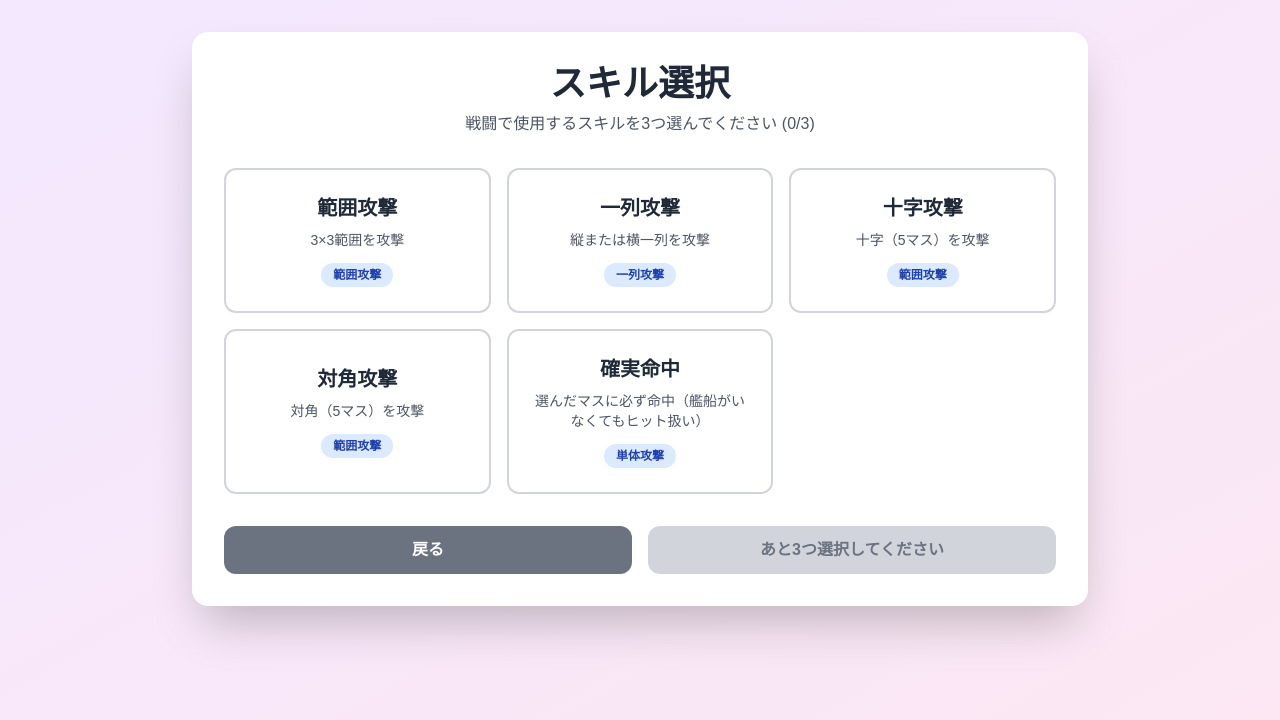
Test: SkillSelectPage › allows selecting up to 3 skills
// Select 3 skills
Click the button "範囲攻撃 3×3範囲を攻撃 範囲攻撃": (357, 240) top-left (224, 168), bottom-right (491, 313)
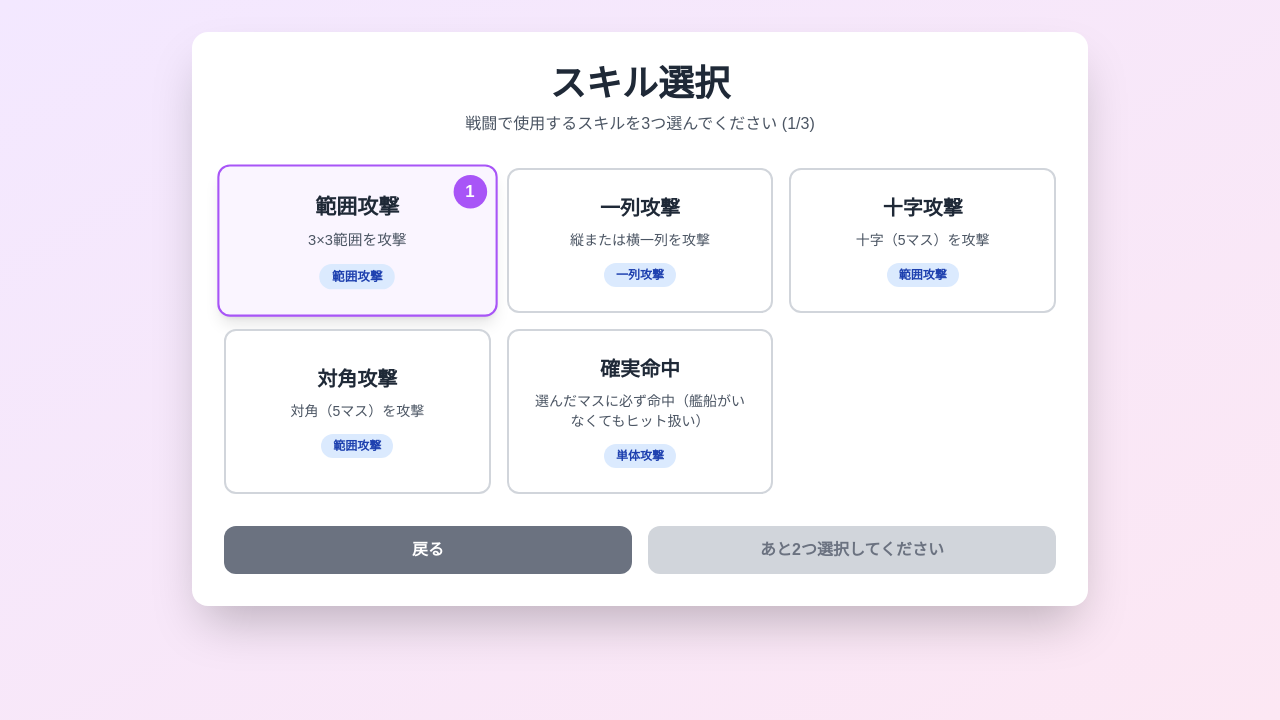
Click the button "一列攻撃 縦または横一列を攻撃 一列攻撃": (640, 240) top-left (507, 168), bottom-right (773, 313)
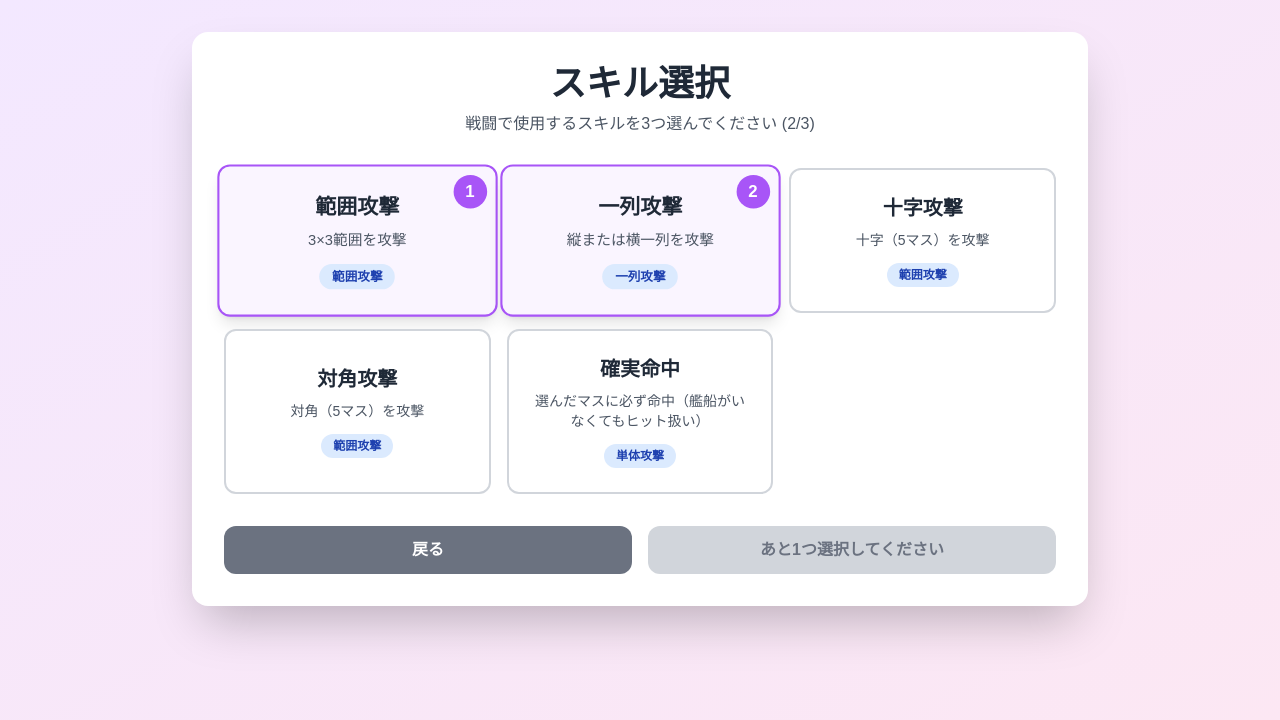
Click the button "十字攻撃 十字（5マス）を攻撃 範囲攻撃": (923, 240) top-left (789, 168), bottom-right (1056, 313)
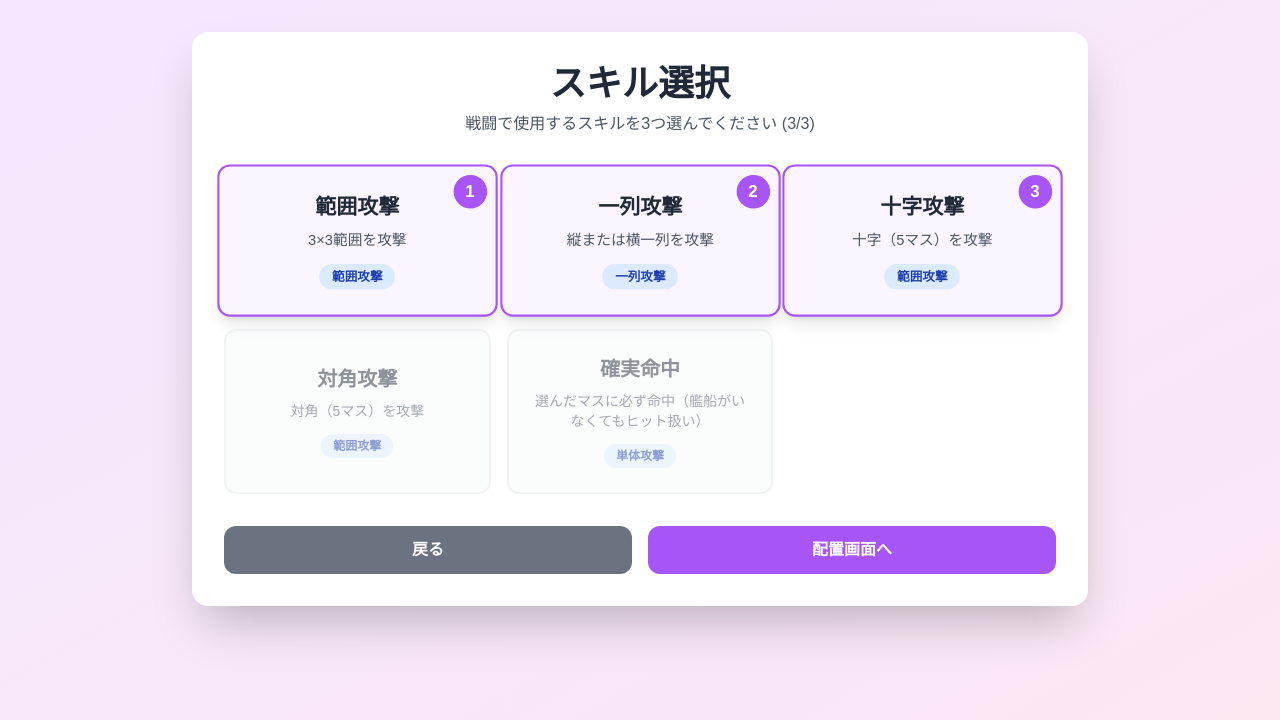
expect the button "配置画面へ" is enabled: met, box top-left (648, 526), bottom-right (1056, 574)
